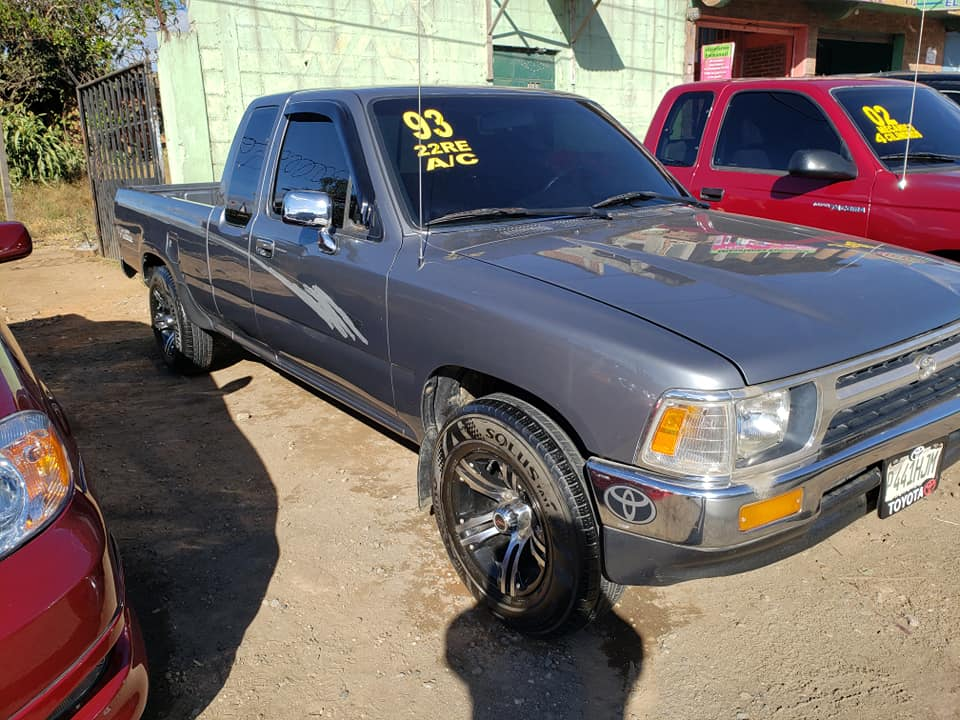pickup: (108, 86, 960, 634)
